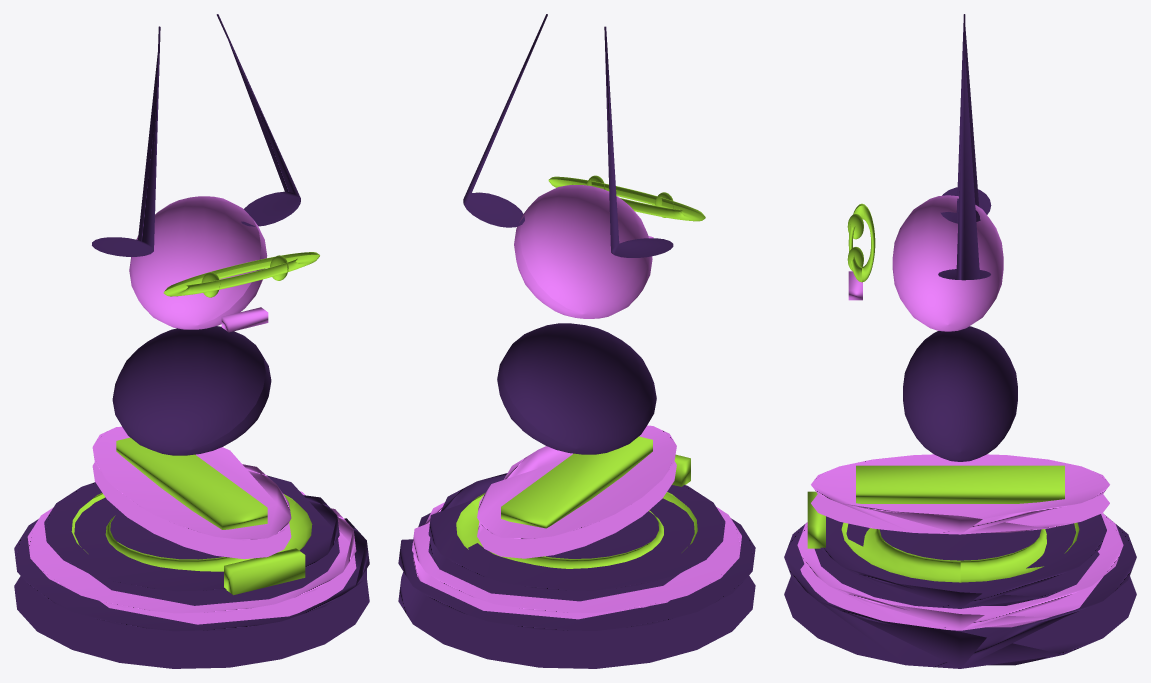
The model's file is rainbow_dash.glb.
3 renders of one model, left to right at view 1: azimuth 30°, elevation 25°; view 2: azimuth 150°, elevation 25°; view 3: azimuth 270°, elevation 25°, orthographic.
Visible parts, largest first — view 1: rainbow_dash_#3D1F59, rainbow_dash_#E879F9, rainbow_dash_#A3E635; view 2: rainbow_dash_#3D1F59, rainbow_dash_#E879F9, rainbow_dash_#A3E635; view 3: rainbow_dash_#3D1F59, rainbow_dash_#E879F9, rainbow_dash_#A3E635.
Part boxes in pixels (x1=…): rainbow_dash_#3D1F59: x1=14, y1=14, x2=369, y2=668; rainbow_dash_#E879F9: x1=27, y1=196, x2=356, y2=624; rainbow_dash_#A3E635: x1=71, y1=252, x2=319, y2=595; rainbow_dash_#3D1F59: x1=398, y1=14, x2=755, y2=668; rainbow_dash_#E879F9: x1=412, y1=185, x2=741, y2=619; rainbow_dash_#A3E635: x1=456, y1=175, x2=705, y2=568; rainbow_dash_#3D1F59: x1=784, y1=14, x2=1136, y2=668; rainbow_dash_#E879F9: x1=797, y1=195, x2=1123, y2=630; rainbow_dash_#A3E635: x1=807, y1=203, x2=1079, y2=582.
Bounding box in the file's own units: 1.72 × 3.04 × 1.72.
